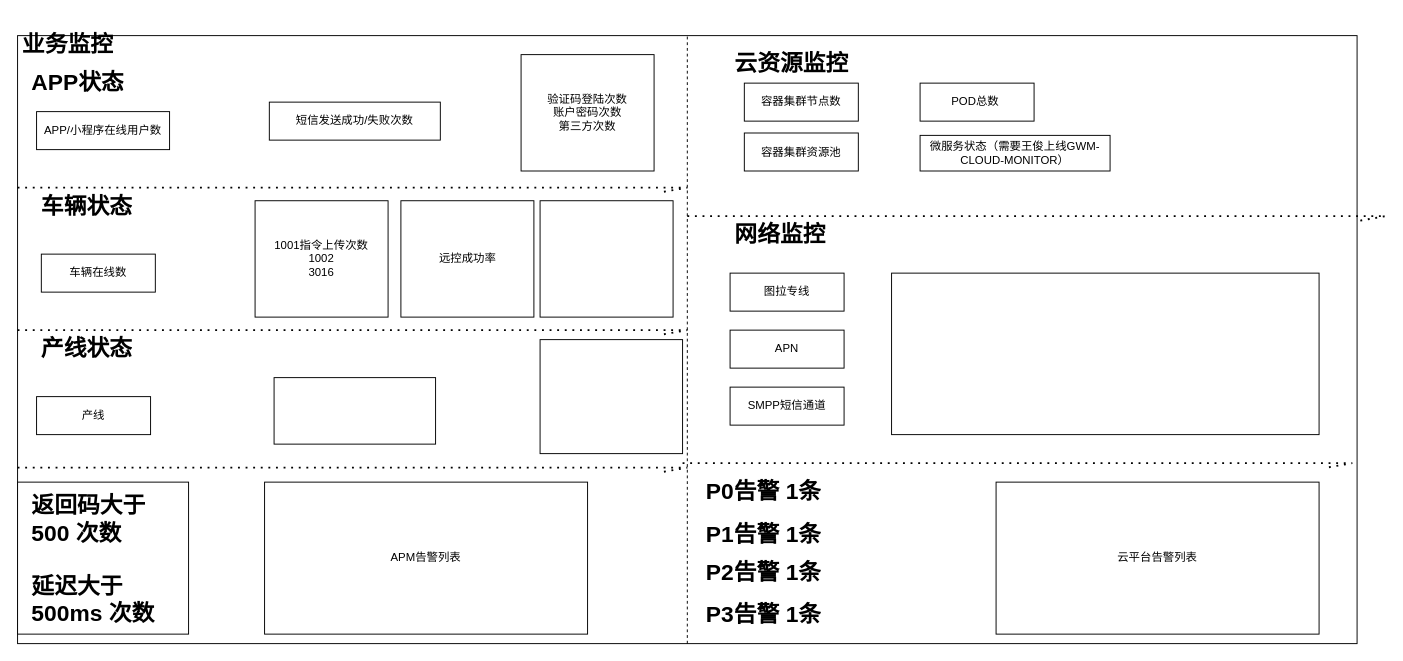
The diagram is 1403 pixels wide and 661 high, and some of its shapes have lost their labels. The centre of each missing label's shape, as x and y in pixels:
"MD数据同步 PKI调用成功/失败" belongs at (611,396).
"检测成功/失败" belongs at (354,410).
"站点监控" belongs at (1105,353).
"远控失败原因分类 远控失败类型分类" belongs at (606,258).
